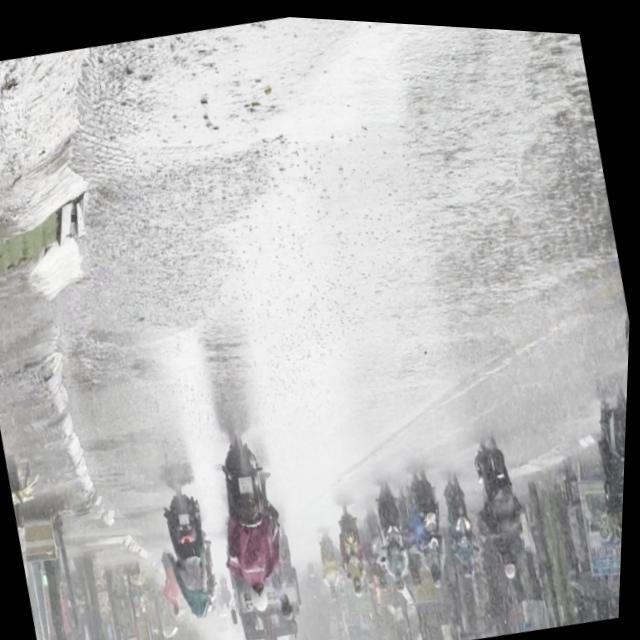helmet: (253, 579, 277, 612)
licenseplate: (210, 426, 306, 618)
nohelmet: (241, 471, 258, 492)
